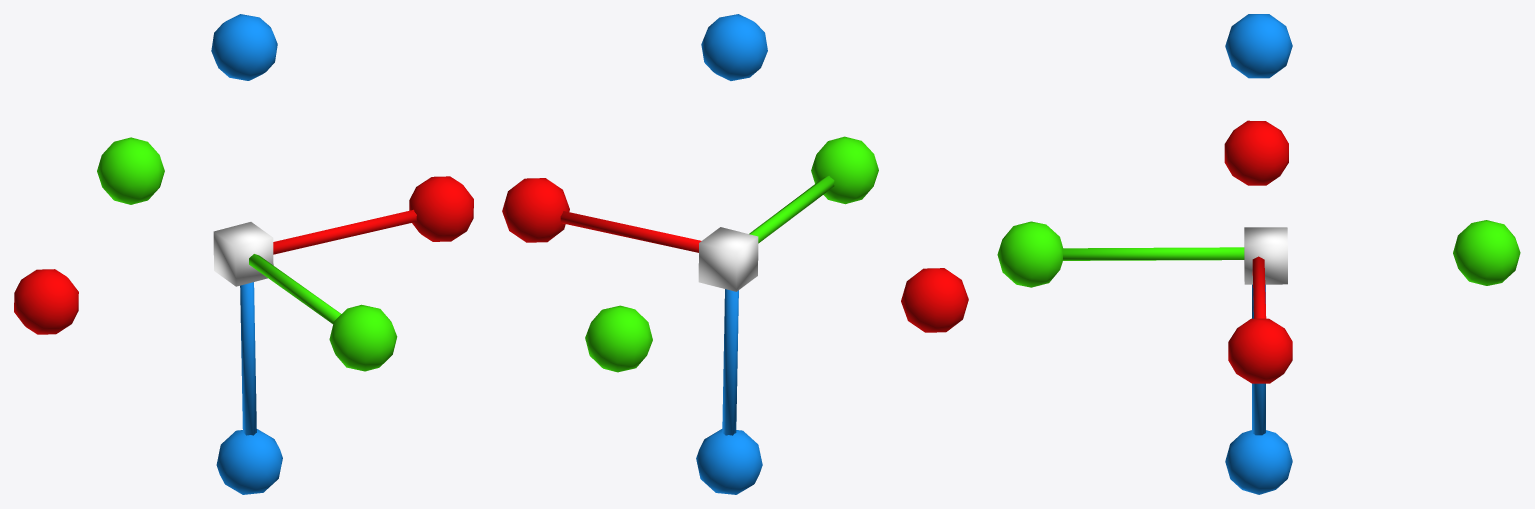
Rendered from gizmo.gltf.
3 renders of one model, left to right at view 1: azimuth 30°, elevation 25°; view 2: azimuth 150°, elevation 25°; view 3: azimuth 270°, elevation 25°, orthographic.
Parts seen in each view (by area): view 1: Cylinder.002; view 2: Cylinder.002; view 3: Cylinder.002.
Part boxes in pixels (x1,y1,x2,y2): Cylinder.002: (14,14,473,494); Cylinder.002: (502,14,968,494); Cylinder.002: (997,14,1520,494).
Bounding box in the file's own units: 0.00347 × 0.00347 × 0.00347.
1 material, 1 textured.
